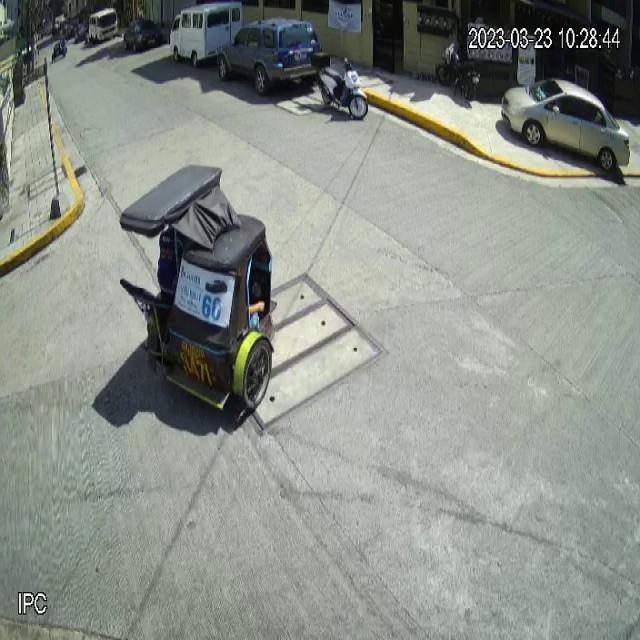Car: (501, 77, 631, 173), (216, 16, 323, 98)
Motorcycle: (311, 51, 368, 120)
Tricycle: (118, 158, 278, 420)
Van: (169, 0, 243, 68)
